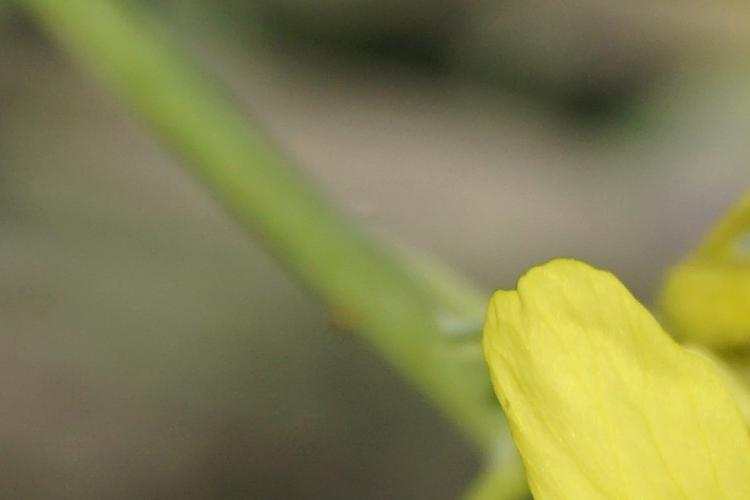yellow: (470, 237, 750, 494)
